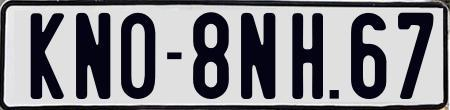0: (120, 13, 160, 105)
6: (350, 13, 386, 99)
7: (395, 10, 431, 100)
8: (191, 9, 228, 96)
H: (290, 10, 325, 101)
K: (28, 10, 63, 102)
N: (238, 13, 278, 105), (75, 12, 113, 101)
